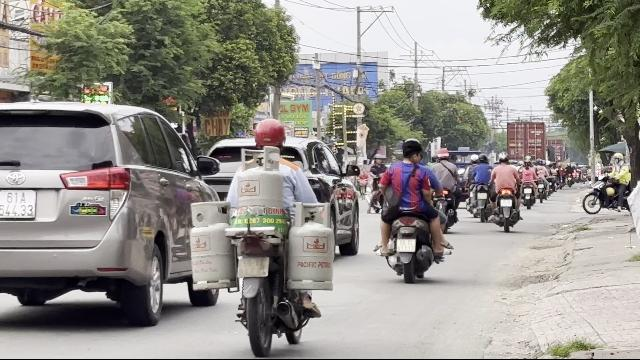helmet: (253, 118, 287, 150)
licenseplate: (238, 258, 268, 276), (396, 238, 416, 252)
motorcyclist: (209, 114, 337, 352), (372, 136, 452, 282)
nohelmet: (401, 138, 424, 162)
